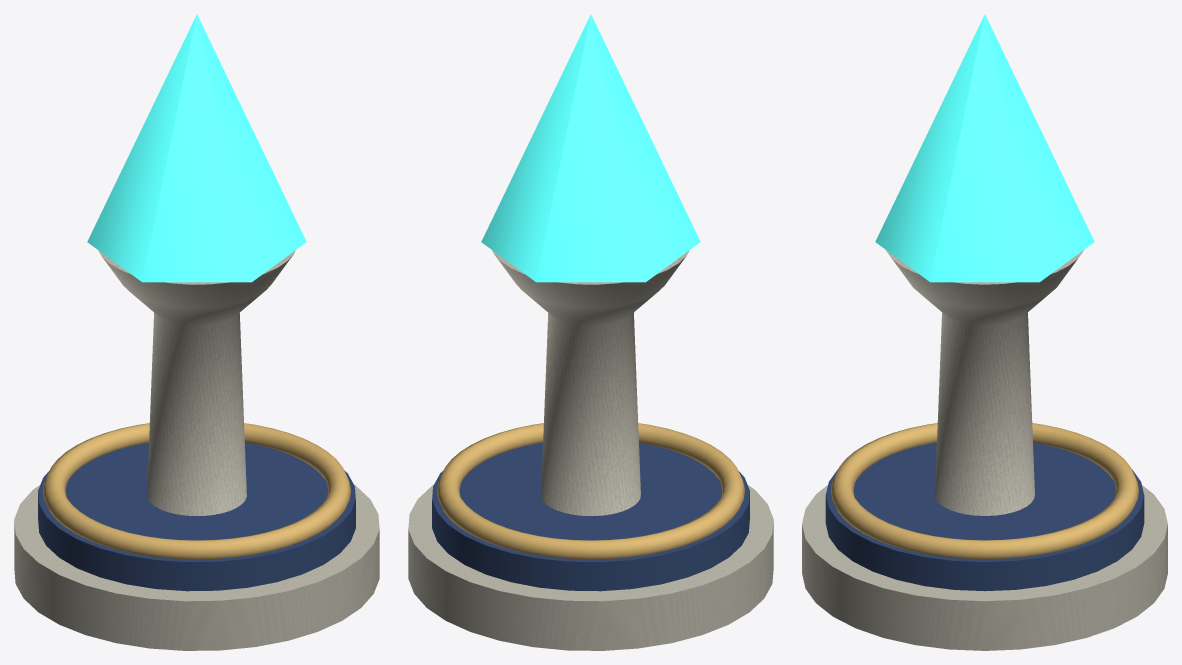
File: arcane-academy-and-spell-trials-prism-pedestal-5cc050a4__28300.glb
3 views of the same model, side by side, from view 1: azimuth 30°, elevation 25°; view 2: azimuth 150°, elevation 25°; view 3: azimuth 270°, elevation 25° (orthographic).
Visible parts, largest first — view 1: prism-pedestal; view 2: prism-pedestal; view 3: prism-pedestal.
Part boxes in pixels (box(x1,y1,x2,y2)): prism-pedestal: box(14, 14, 379, 650); prism-pedestal: box(408, 14, 773, 650); prism-pedestal: box(802, 14, 1167, 650).
Size of the model in its own units: 0.8 by 1.35 by 0.8.
Materials: 4 (1 with a texture image).
